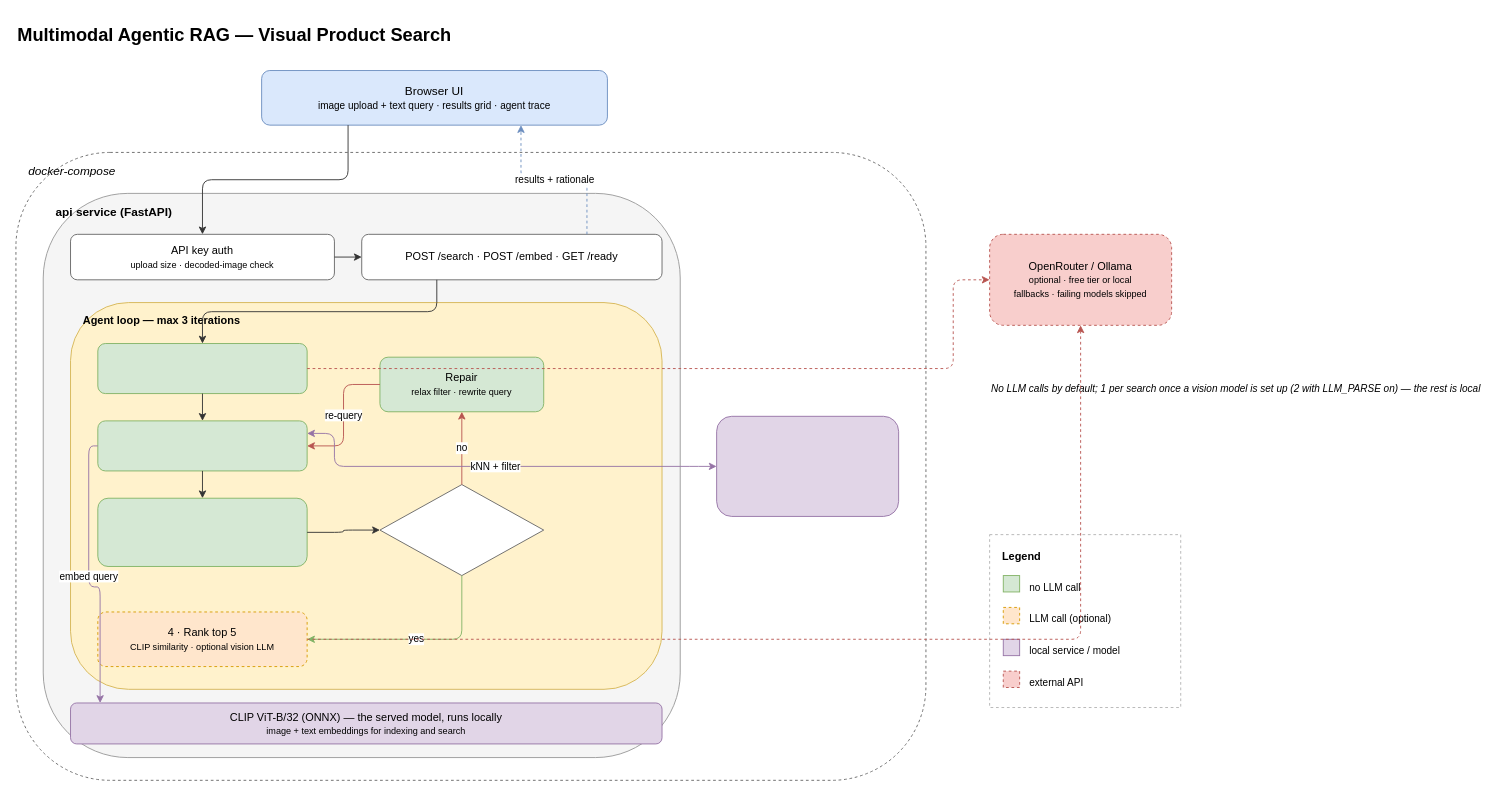
Some shapes in this 1497 by 796 pixel diagram are drawn without their labels. Each missing label, with the centre of its shape:
"1 · Read request rules · LLM parsing optional" goes at [202,368].
"2 · Retrieve vector kNN + payload filter" goes at [202,445].
"3 · Cheap checks — no LLM price, category and colour matched on indexed metadata" goes at [202,531].
"constraints met?" goes at [461,530].
"Qdrant image + text vectors payload: price, colour, category" goes at [807,465].
